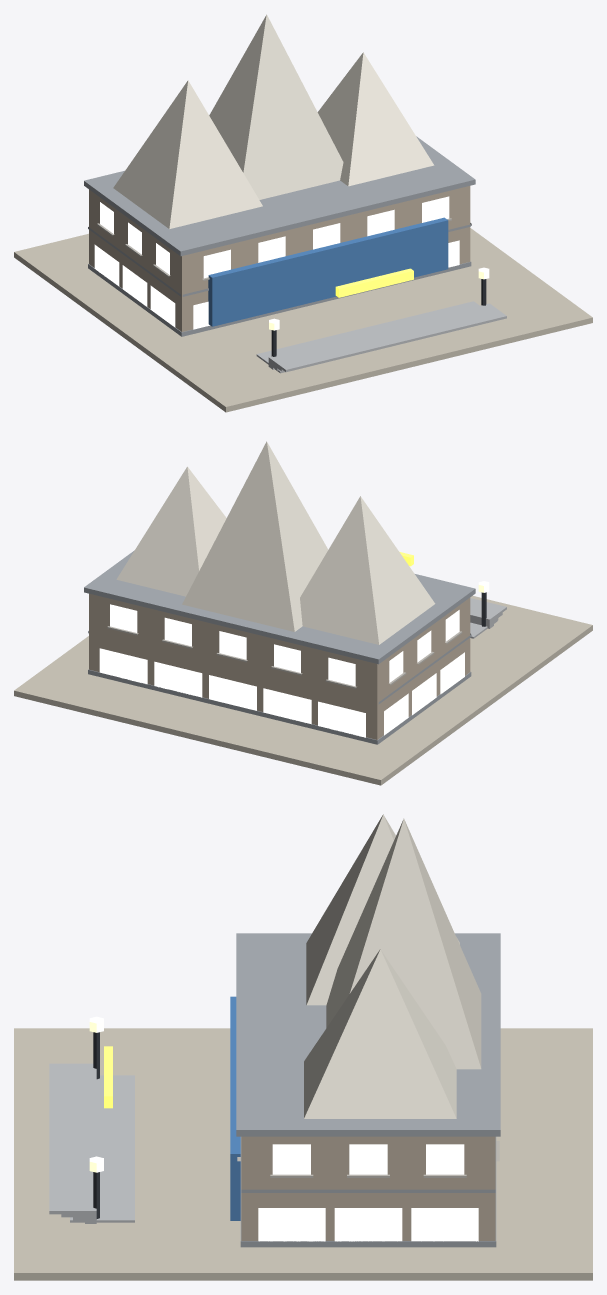
File: landmark_opera.glb
3 renders of one model, top to bottom at view 1: azimuth 30°, elevation 25°; view 2: azimuth 150°, elevation 25°; view 3: azimuth 270°, elevation 25°, orthographic. The views are drawn at different scales.
Visible parts, largest first — view 1: landmark_opera; view 2: landmark_opera; view 3: landmark_opera.
Part boxes in pixels (x1=…): landmark_opera: x1=14, y1=14, x2=592, y2=412; landmark_opera: x1=14, y1=441, x2=592, y2=785; landmark_opera: x1=14, y1=814, x2=592, y2=1280.
Bounding box in the file's own units: 1.96 × 1.27 × 1.96.
